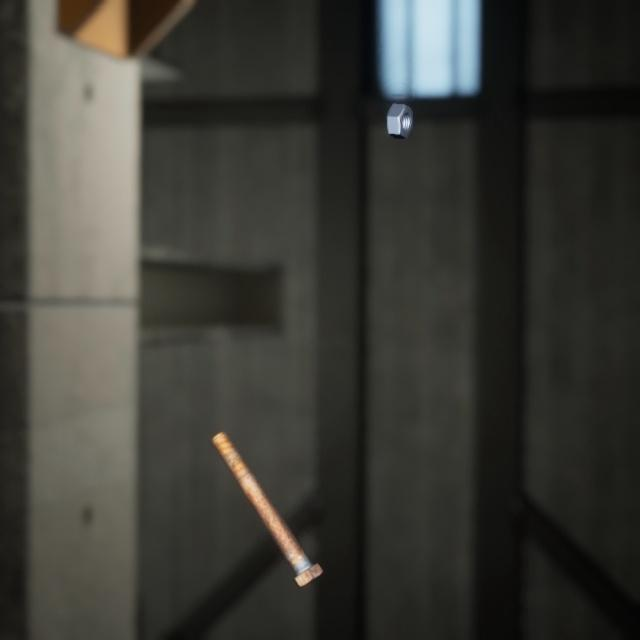bolt: (206, 404, 327, 570)
nut: (382, 88, 417, 131)
